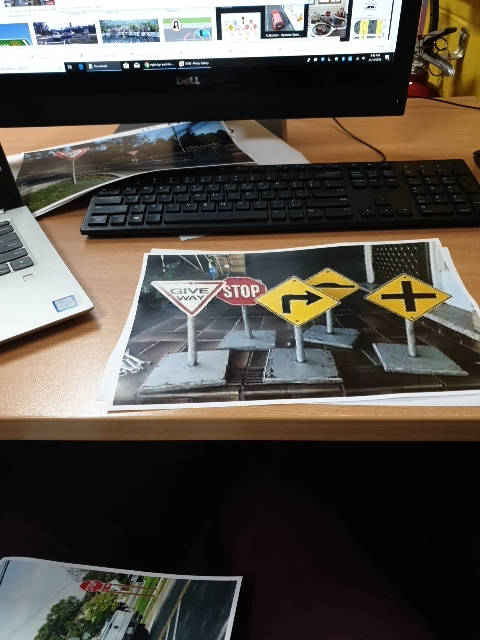giveway: (157, 274, 231, 320)
right: (257, 269, 348, 339)
stop: (204, 268, 283, 320)
